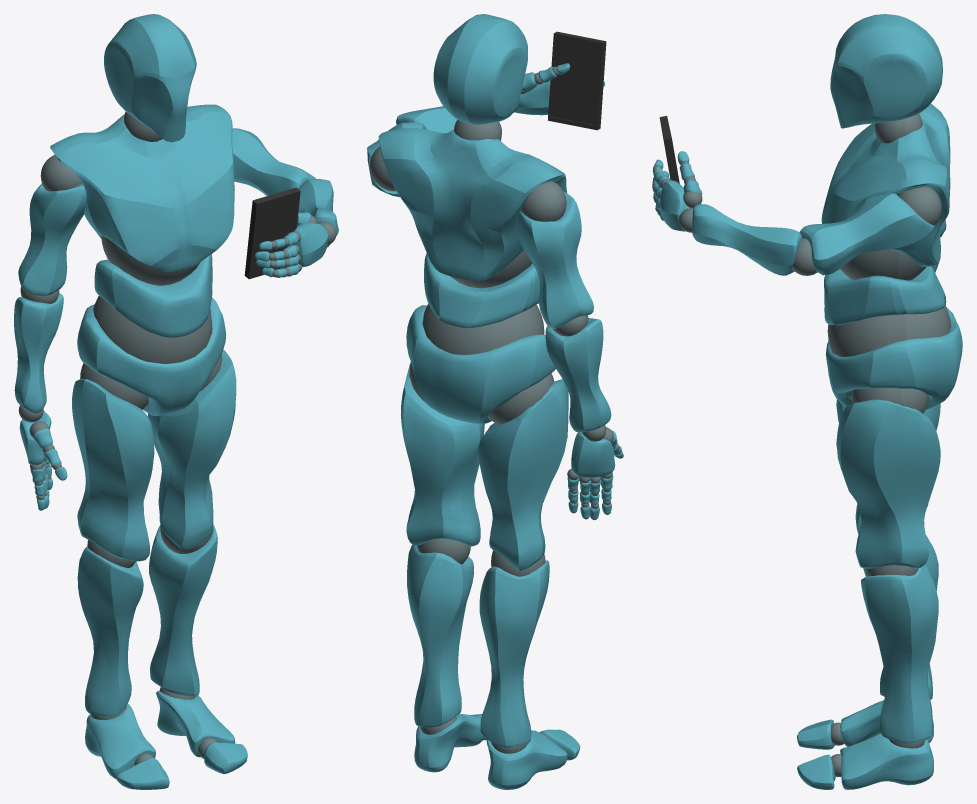
Rendered from character.glb.
The picture shows the model from 3 angles, left to right: view 1: azimuth 30°, elevation 25°; view 2: azimuth 150°, elevation 25°; view 3: azimuth 270°, elevation 25°; orthographic projection. The views are drawn at different scales.
Parts seen in each view (by area): view 1: Alpha_Surface, Alpha_Joints, Cube; view 2: Alpha_Surface, Alpha_Joints, Cube; view 3: Alpha_Surface, Alpha_Joints, Cube.
Part boxes in pixels (x1,y1,x2,y2): Alpha_Surface: [14, 14, 338, 789]; Alpha_Joints: [18, 112, 336, 765]; Cube: [244, 187, 300, 279]; Alpha_Surface: [367, 14, 623, 789]; Alpha_Joints: [370, 66, 621, 753]; Cube: [548, 31, 606, 130]; Alpha_Surface: [652, 14, 962, 789]; Alpha_Joints: [652, 113, 951, 776]; Cube: [659, 116, 679, 183].
Bounding box in the file's own units: 2.85 × 7.63 × 2.89.
